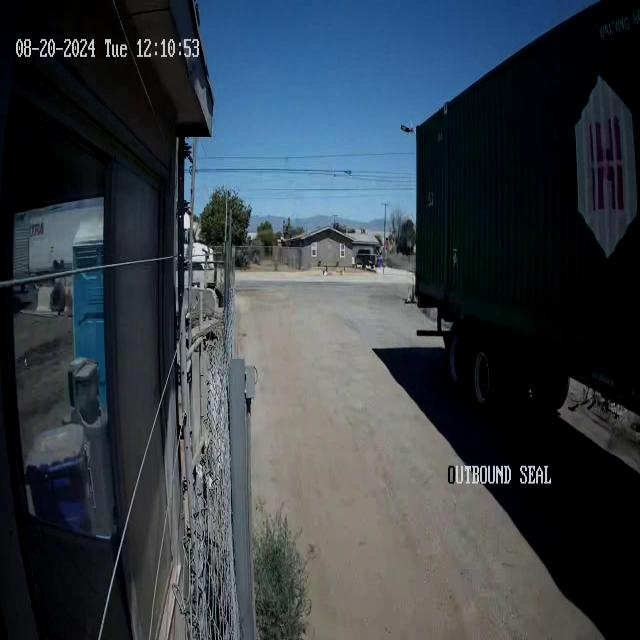TRUCK_CONTAINER: (413, 1, 639, 414)
